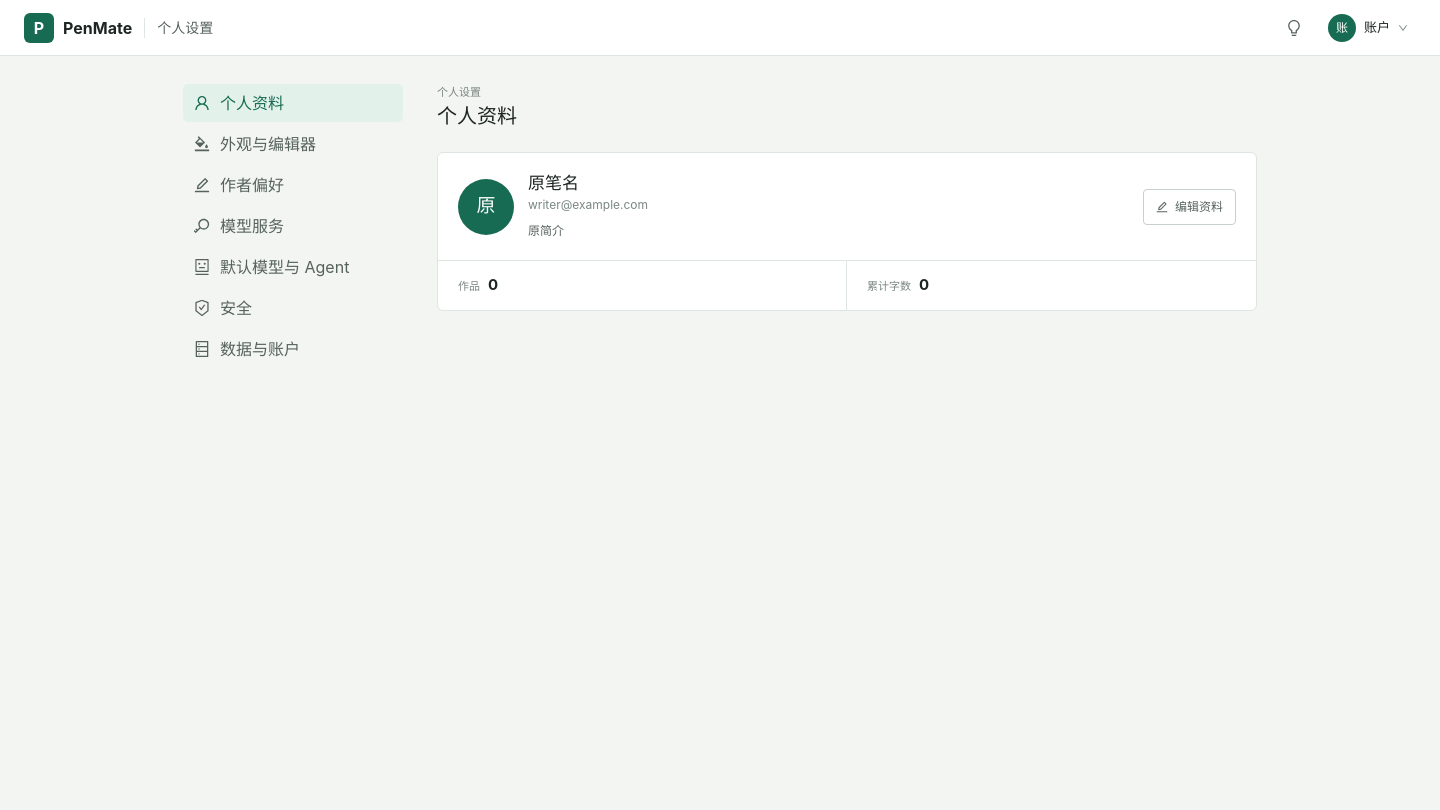
Scenario: Profile settings architecture › uses six focused settings sections instead of one long page
The width and height of the screenshot is (1440, 810).
Expected: the element with test id "profile-hero-card" is shown, [437,152,1257,311]
Click the button "安全" at (293, 308), box [183,289,403,327]
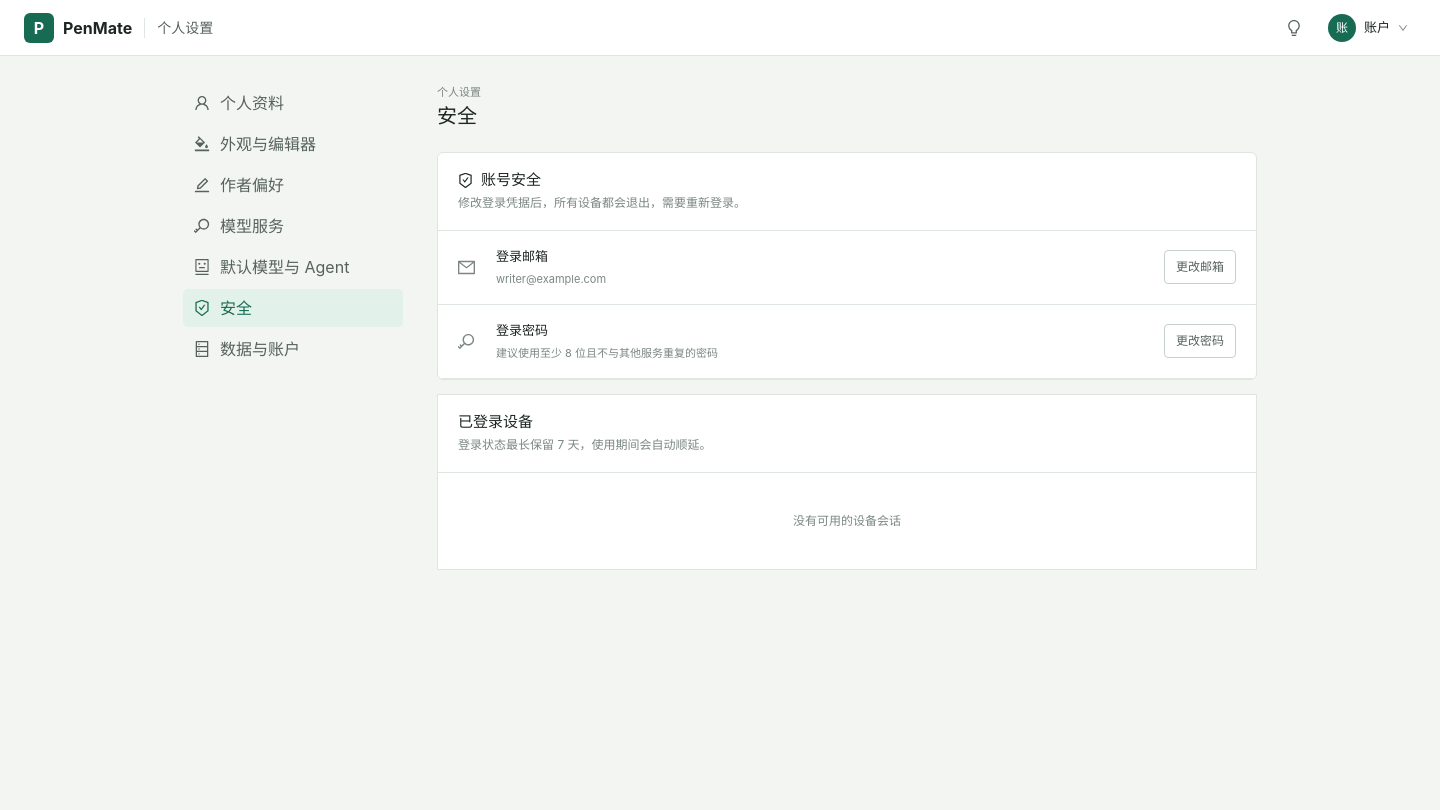
Now the text "账号安全" is shown, box [458,170,541,189]
Now the text "已登录设备" is shown, box [458,412,533,431]
Click the button "模型服务" at (293, 226), box [183,207,403,245]
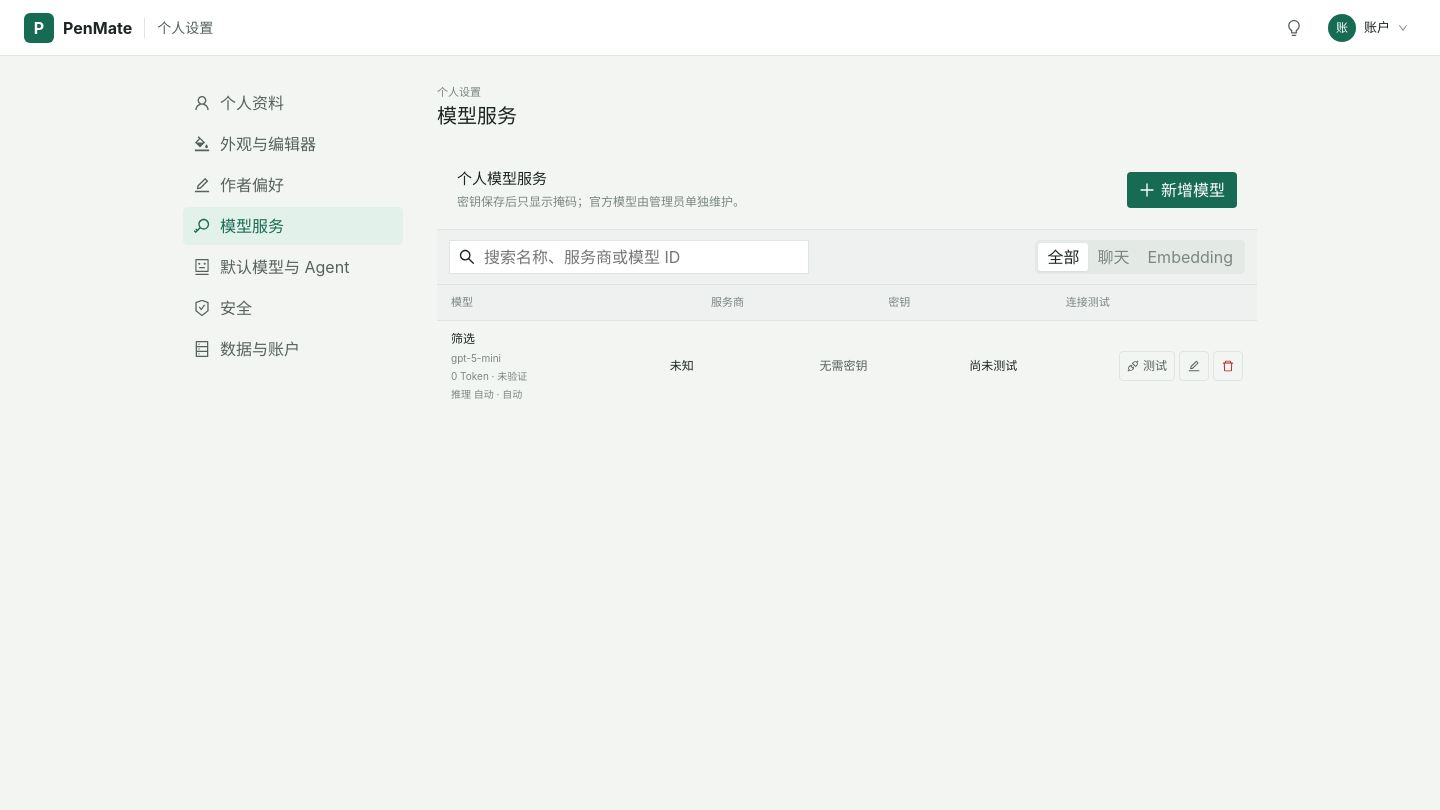
Now the text "个人模型服务" is shown, box [457,169,547,188]
